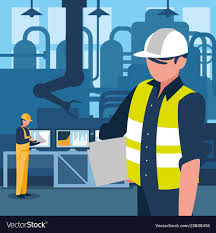Person_wearing_helmet: (133, 23, 191, 63)
